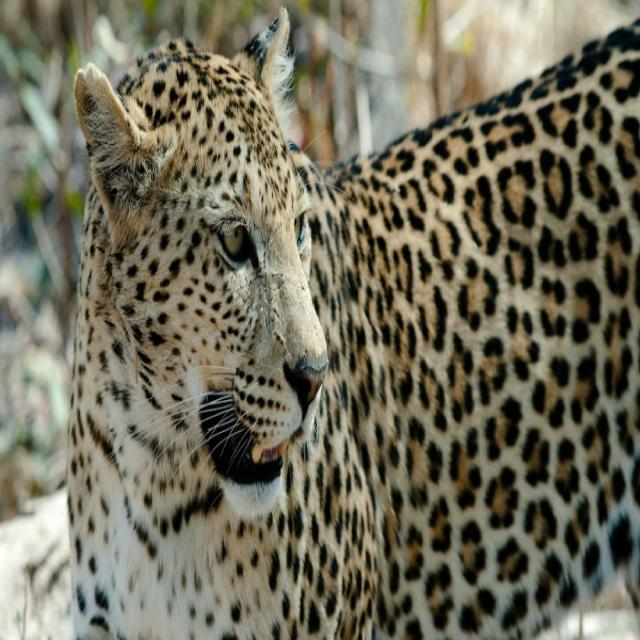Leopard: (66, 34, 640, 637)
